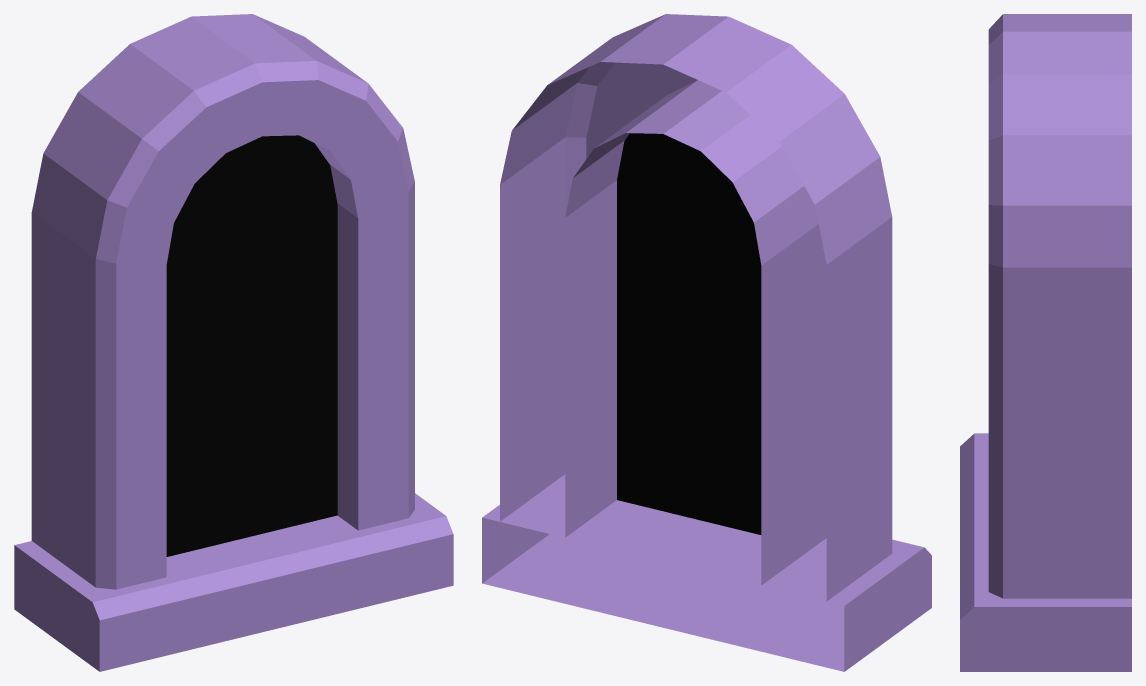
The model's file is WindowA.glb.
The picture shows the model from 3 angles, left to right: view 1: azimuth 30°, elevation 25°; view 2: azimuth 150°, elevation 25°; view 3: azimuth 270°, elevation 25°; orthographic projection. The views are drawn at different scales.
Visible parts, largest first — view 1: WindowA; view 2: WindowA; view 3: WindowA.
Boxes of the visible parts, left/top/right/bottom form: WindowA: left=14, top=14, right=453, bottom=671; WindowA: left=482, top=14, right=931, bottom=671; WindowA: left=960, top=14, right=1131, bottom=671.
Bounding box in the file's own units: 2.87 × 4.27 × 1.2.
